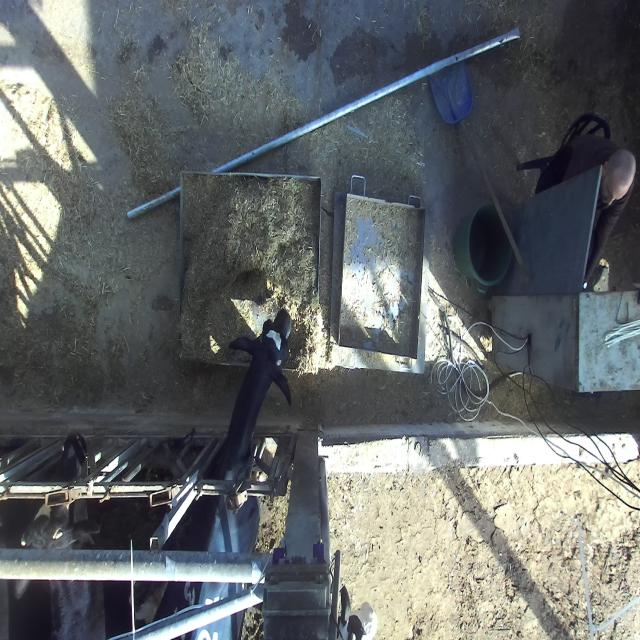cow: (11, 430, 99, 564), (226, 310, 293, 406)
